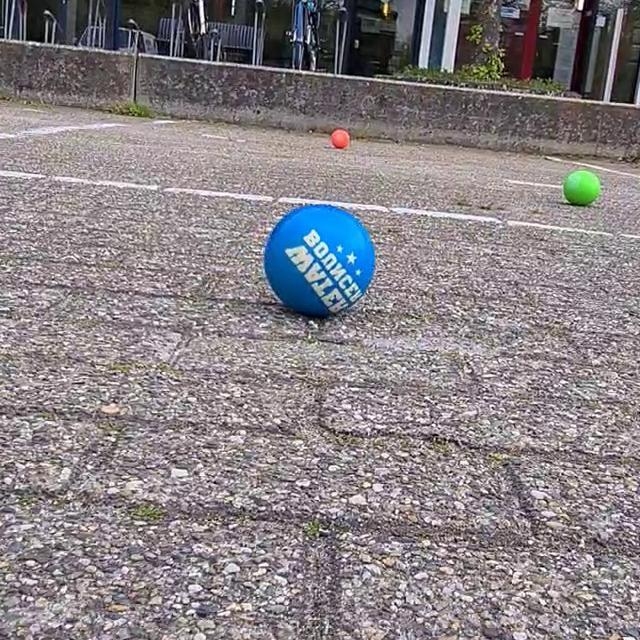ball: (560, 167, 605, 212), (325, 124, 353, 152)
